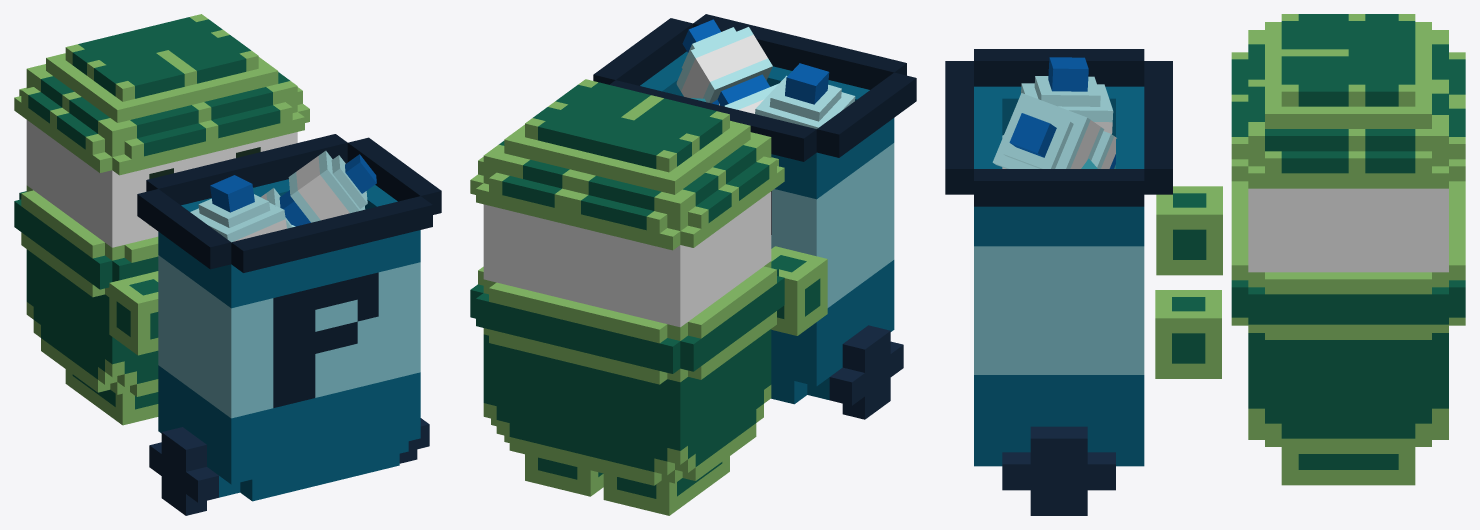
The model's file is p2PlasConDizzy.gltf.
The picture shows the model from 3 angles, left to right: view 1: azimuth 30°, elevation 25°; view 2: azimuth 150°, elevation 25°; view 3: azimuth 270°, elevation 25°; orthographic projection. The views are drawn at different scales.
Visible parts, largest first — view 1: Yup2Zup.001; view 2: Yup2Zup.001; view 3: Yup2Zup.001.
Boxes of the visible parts, x1,y1,x2,y2 form: Yup2Zup.001: [14, 14, 441, 515]; Yup2Zup.001: [470, 14, 916, 515]; Yup2Zup.001: [945, 14, 1465, 515].
Size of the model in its own units: 1.92 by 2.61 by 3.11.
7 materials, 7 textured.
